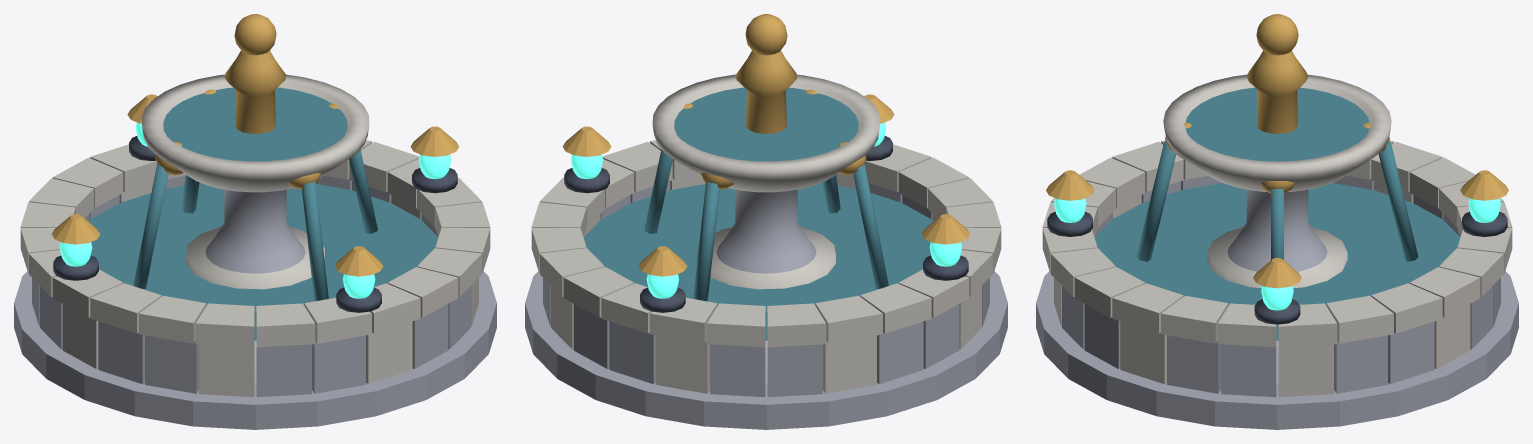
File: fountain.glb
The picture shows the model from 3 angles, left to right: view 1: azimuth 30°, elevation 25°; view 2: azimuth 150°, elevation 25°; view 3: azimuth 270°, elevation 25°; orthographic projection.
Visible parts, largest first — view 1: water_Fountain_basin, Fountain_upper_bowl, water_Fountain_upper_pool, Fountain_carved_column, Fountain_finial, Fountain_column_plinth, Fountain_basin_wall.015, Fountain_basin_wall.016, Fountain_basin_wall.014, Fountain_basin_wall.017, Fountain_limestone_rim.015, Fountain_limestone_rim.016 (+50 smaller); view 2: water_Fountain_basin, Fountain_upper_bowl, water_Fountain_upper_pool, Fountain_carved_column, Fountain_finial, Fountain_column_plinth, Fountain_basin_wall.007, Fountain_basin_wall.008, Fountain_basin_wall.006, Fountain_basin_wall.009, Fountain_limestone_rim.007, Fountain_limestone_rim.008 (+50 smaller); view 3: water_Fountain_basin, Fountain_upper_bowl, water_Fountain_upper_pool, Fountain_carved_column, Fountain_finial, Fountain_column_plinth, Fountain_basin_wall, Fountain_basin_wall.023, Fountain_basin_wall.001, Fountain_basin_wall.022, Fountain_limestone_rim.001, Fountain_limestone_rim.022 (+47 smaller).
Boxes of the visible parts, x1,y1,x2,y2 form: water_Fountain_basin: (88, 183, 438, 340); Fountain_upper_bowl: (141, 74, 369, 192); water_Fountain_upper_pool: (163, 87, 347, 161); Fountain_carved_column: (205, 189, 305, 273); Fountain_finial: (225, 50, 285, 133); Fountain_column_plinth: (186, 226, 324, 289); Fountain_basin_wall.015: (199, 344, 254, 397); Fountain_basin_wall.016: (256, 344, 311, 397); Fountain_basin_wall.014: (145, 335, 198, 393); Fountain_basin_wall.017: (312, 335, 365, 393); Fountain_limestone_rim.015: (195, 303, 254, 347); Fountain_limestone_rim.016: (256, 303, 315, 347); water_Fountain_basin: (583, 183, 933, 340); Fountain_upper_bowl: (652, 74, 880, 192); water_Fountain_upper_pool: (674, 87, 858, 161); Fountain_carved_column: (716, 189, 816, 273); Fountain_finial: (736, 50, 796, 133); Fountain_column_plinth: (697, 226, 835, 289); Fountain_basin_wall.007: (710, 344, 765, 397); Fountain_basin_wall.008: (767, 344, 822, 397); Fountain_basin_wall.006: (656, 335, 709, 393); Fountain_basin_wall.009: (823, 335, 876, 393); Fountain_limestone_rim.007: (706, 303, 765, 347); Fountain_limestone_rim.008: (767, 303, 826, 347); water_Fountain_basin: (1094, 183, 1460, 340); Fountain_upper_bowl: (1163, 74, 1391, 191); water_Fountain_upper_pool: (1185, 87, 1369, 161); Fountain_carved_column: (1227, 190, 1327, 271); Fountain_finial: (1246, 51, 1308, 133); Fountain_column_plinth: (1207, 227, 1347, 288); Fountain_basin_wall: (1278, 344, 1333, 397); Fountain_basin_wall.023: (1221, 344, 1276, 397); Fountain_basin_wall.001: (1334, 335, 1387, 393); Fountain_basin_wall.022: (1167, 335, 1220, 393); Fountain_limestone_rim.001: (1326, 295, 1393, 343); Fountain_limestone_rim.022: (1161, 295, 1228, 343).
Size of the model in its own units: 2.96 by 2.11 by 2.96.
